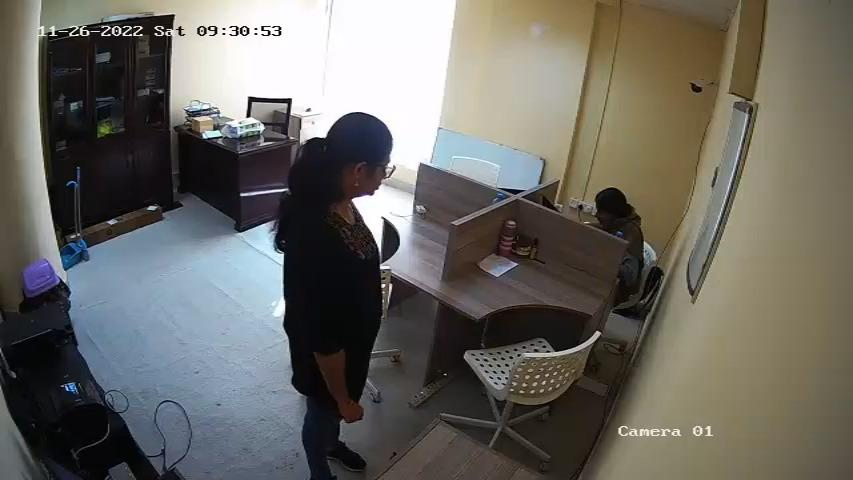no_apron: (331, 219, 380, 351)
